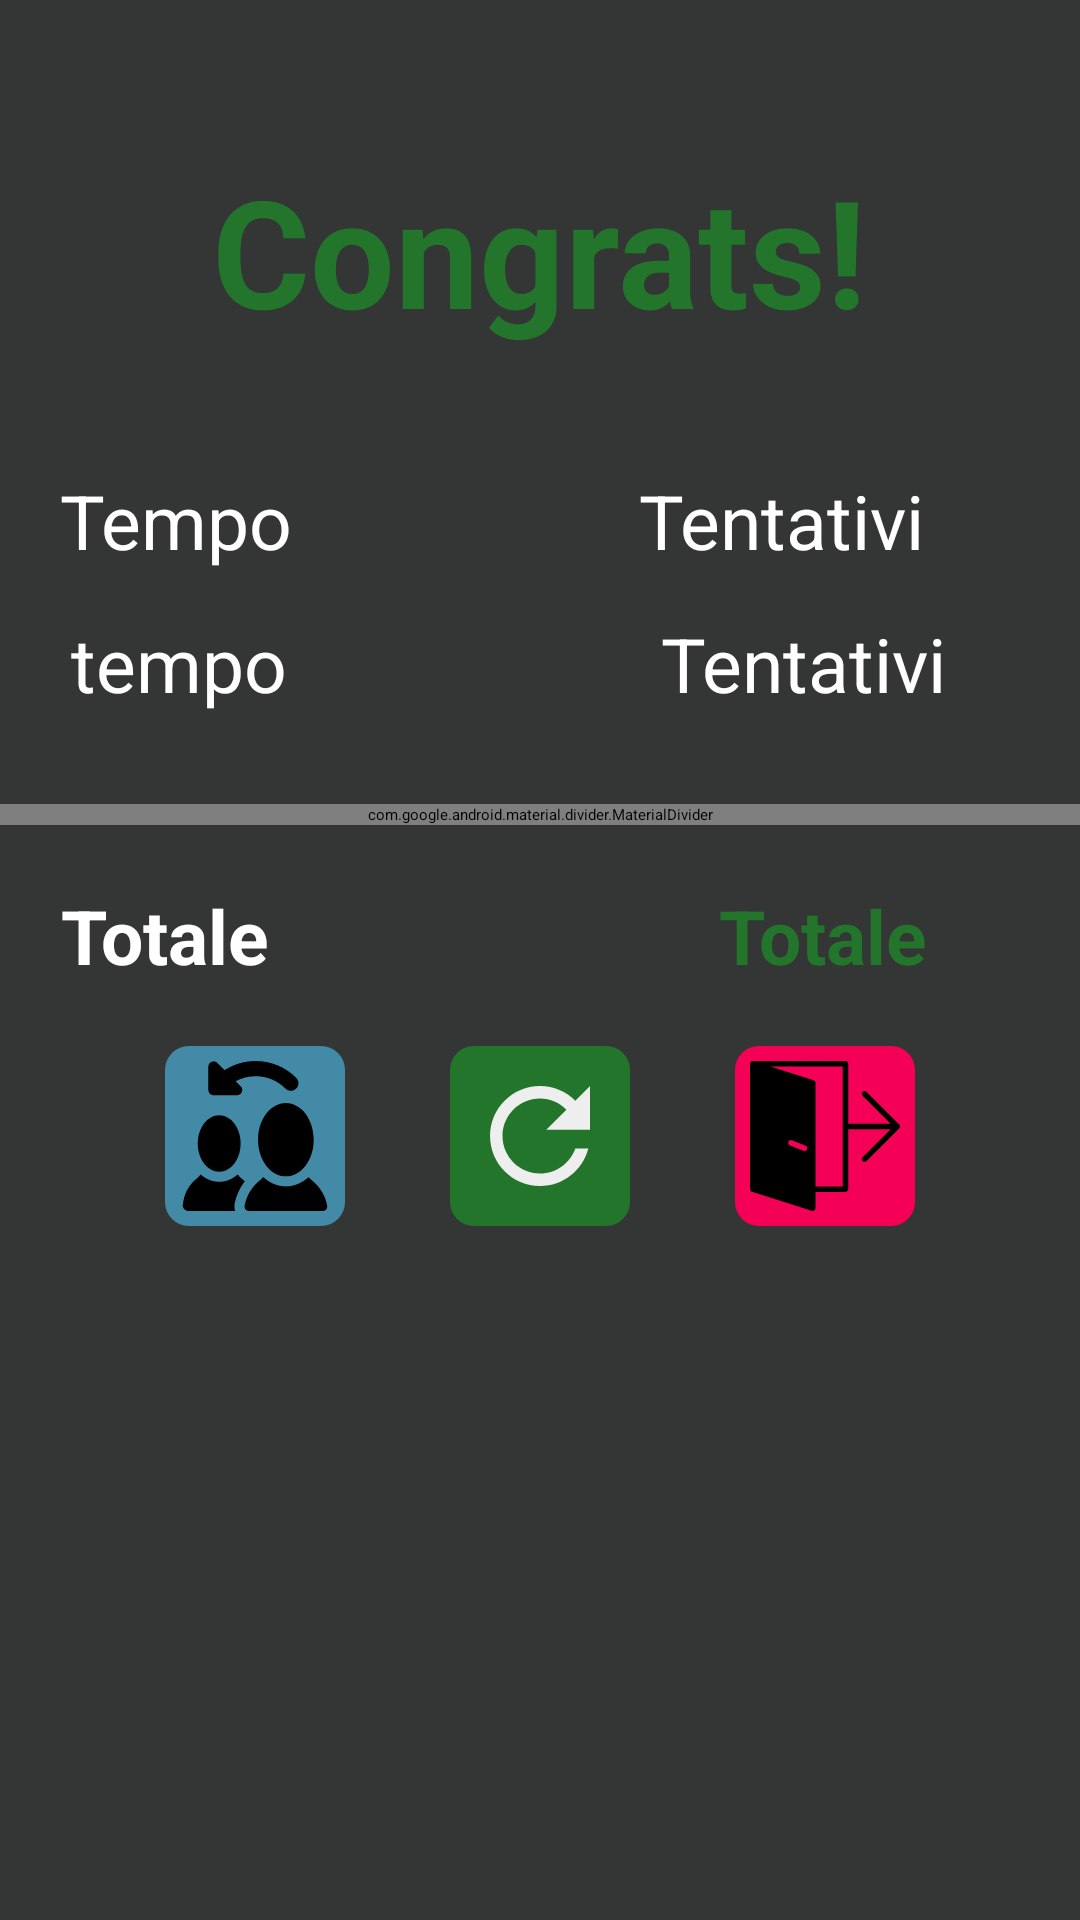

Named icons in this screenshot (1080 x 1920) and their centers, point (x, y):
exit: point (825, 1136)
refresh: point (540, 1136)
switch user: point (255, 1136)
